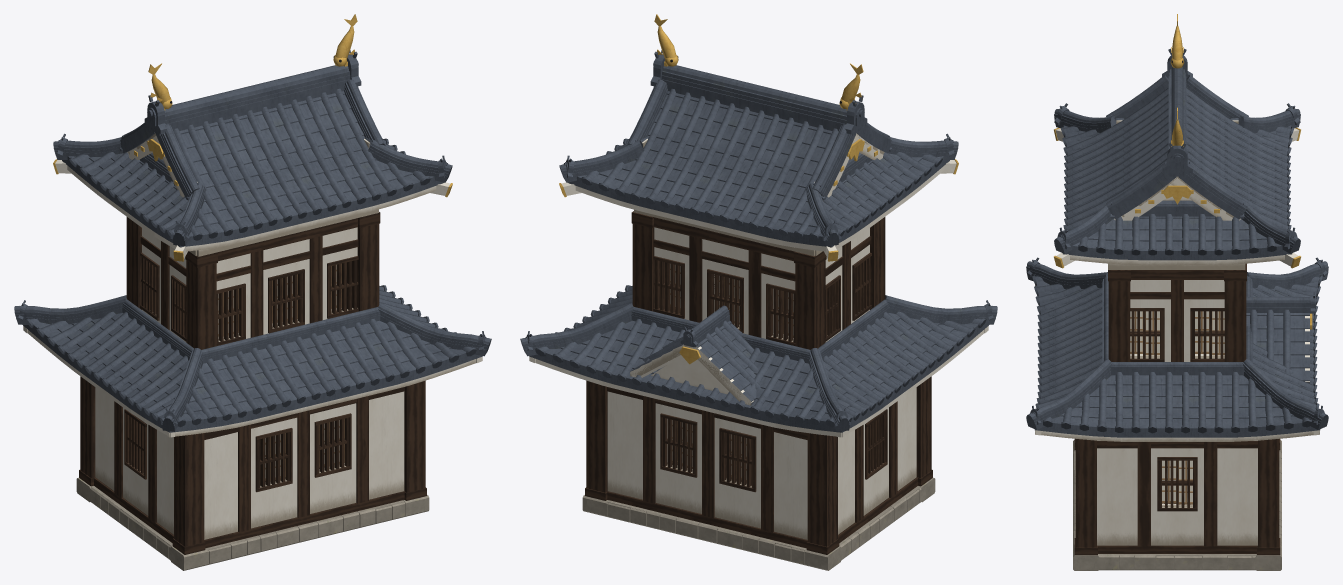
Rendered from HO_Castle_Yagura.fbx.
The picture shows the model from 3 angles, left to right: view 1: azimuth 30°, elevation 25°; view 2: azimuth 150°, elevation 25°; view 3: azimuth 270°, elevation 25°; orthographic projection. The views are drawn at different scales.
Visible parts, largest first — view 1: HO_Castle_Yagura_Tier2_RoofTiles, HO_Castle_Yagura_Tier1_RoofTiles, HO_Castle_Yagura_Tier1__Timber_Dark, HO_Castle_Yagura_Tier2__Timber_Dark, HO_Castle_Yagura_Tier1__Plaster_White, HO_Castle_Yagura_Structure, HO_Castle_Yagura_Tier2__Plaster_White, HO_Castle_Yagura_Tier2_RoofFrame__Plaster_White, HO_Castle_Yagura_Tier1_RoofFrame__Plaster_White, HO_Castle_Yagura_Tier2_RoofFrame__Gold_Leaf; view 2: HO_Castle_Yagura_Tier2_RoofTiles, HO_Castle_Yagura_Tier1_RoofTiles, HO_Castle_Yagura_Tier1__Timber_Dark, HO_Castle_Yagura_Tier2__Timber_Dark, HO_Castle_Yagura_Tier1__Plaster_White, HO_Castle_Yagura_Structure, HO_Castle_Yagura_Tier2__Plaster_White, HO_Castle_Yagura_Tier1_RoofFrame__Plaster_White, HO_Castle_Yagura_Tier2_RoofFrame__Plaster_White, HO_Castle_Yagura_Tier2_RoofFrame__Gold_Leaf; view 3: HO_Castle_Yagura_Tier2_RoofTiles, HO_Castle_Yagura_Tier1_RoofTiles, HO_Castle_Yagura_Tier1__Timber_Dark, HO_Castle_Yagura_Tier1__Plaster_White, HO_Castle_Yagura_Tier2__Timber_Dark, HO_Castle_Yagura_Structure, HO_Castle_Yagura_Tier2_RoofFrame__Plaster_White, HO_Castle_Yagura_Tier2__Plaster_White, HO_Castle_Yagura_Tier1_RoofFrame__Plaster_White, HO_Castle_Yagura_Tier2_RoofFrame__Gold_Leaf, HO_Castle_Yagura_Tier2__Shoji_Paper, HO_Castle_Yagura_Tier2__Timber_Light (+1 smaller).
Part boxes in pixels (x1,y1,x2,y2): HO_Castle_Yagura_Tier2_RoofTiles: (53, 50, 452, 247); HO_Castle_Yagura_Tier1_RoofTiles: (14, 285, 491, 432); HO_Castle_Yagura_Tier1__Timber_Dark: (79, 376, 426, 554); HO_Castle_Yagura_Tier2__Timber_Dark: (126, 212, 380, 349); HO_Castle_Yagura_Tier1__Plaster_White: (95, 387, 404, 539); HO_Castle_Yagura_Structure: (76, 477, 429, 570); HO_Castle_Yagura_Tier2__Plaster_White: (142, 227, 357, 342); HO_Castle_Yagura_Tier2_RoofFrame__Plaster_White: (55, 133, 450, 258); HO_Castle_Yagura_Tier1_RoofFrame__Plaster_White: (23, 326, 482, 437); HO_Castle_Yagura_Tier2_RoofFrame__Gold_Leaf: (53, 14, 452, 261); HO_Castle_Yagura_Tier2_RoofTiles: (559, 50, 958, 247); HO_Castle_Yagura_Tier1_RoofTiles: (520, 285, 997, 432); HO_Castle_Yagura_Tier1__Timber_Dark: (585, 376, 932, 554); HO_Castle_Yagura_Tier2__Timber_Dark: (631, 211, 885, 349); HO_Castle_Yagura_Tier1__Plaster_White: (607, 387, 916, 539); HO_Castle_Yagura_Structure: (582, 477, 935, 570); HO_Castle_Yagura_Tier2__Plaster_White: (654, 227, 869, 342); HO_Castle_Yagura_Tier1_RoofFrame__Plaster_White: (529, 326, 988, 437); HO_Castle_Yagura_Tier2_RoofFrame__Plaster_White: (561, 133, 956, 258); HO_Castle_Yagura_Tier2_RoofFrame__Gold_Leaf: (559, 14, 958, 261); HO_Castle_Yagura_Tier2_RoofTiles: (1054, 48, 1300, 260); HO_Castle_Yagura_Tier1_RoofTiles: (1026, 257, 1328, 437); HO_Castle_Yagura_Tier1__Timber_Dark: (1074, 438, 1280, 555); HO_Castle_Yagura_Tier1__Plaster_White: (1097, 440, 1257, 545); HO_Castle_Yagura_Tier2__Timber_Dark: (1108, 263, 1246, 361); HO_Castle_Yagura_Structure: (1073, 440, 1281, 570); HO_Castle_Yagura_Tier2_RoofFrame__Plaster_White: (1055, 120, 1299, 269); HO_Castle_Yagura_Tier2__Plaster_White: (1130, 280, 1224, 361); HO_Castle_Yagura_Tier1_RoofFrame__Plaster_White: (1035, 285, 1319, 441); HO_Castle_Yagura_Tier2_RoofFrame__Gold_Leaf: (1054, 14, 1300, 268); HO_Castle_Yagura_Tier2__Shoji_Paper: (1130, 311, 1224, 352); HO_Castle_Yagura_Tier2__Timber_Light: (1130, 311, 1224, 355).
Size of the model in its own units: 22.27 by 29.97 by 18.27.
